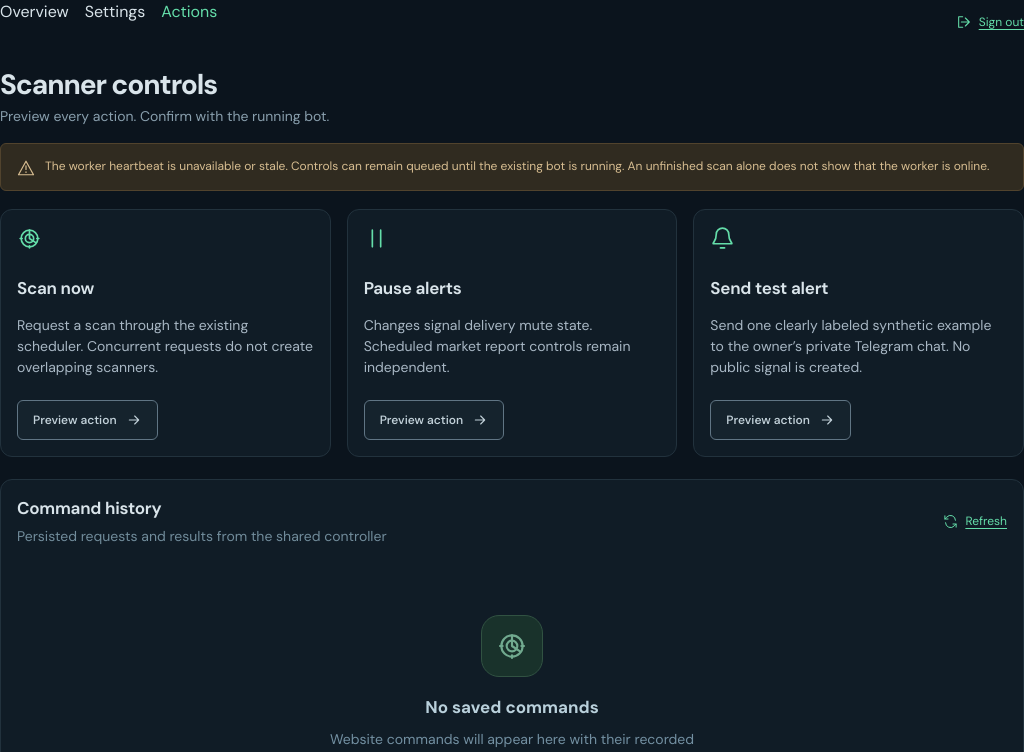
disables an expired preview and tells the owner to request a fresh one
The width and height of the screenshot is (1024, 752).
expect the heading "Scanner controls" is shown: met, box top-left (0, 66), bottom-right (217, 103)
Click the button "Preview action" below "Scan now" at x=87, y=420, box top-left (17, 400), bottom-right (158, 440)
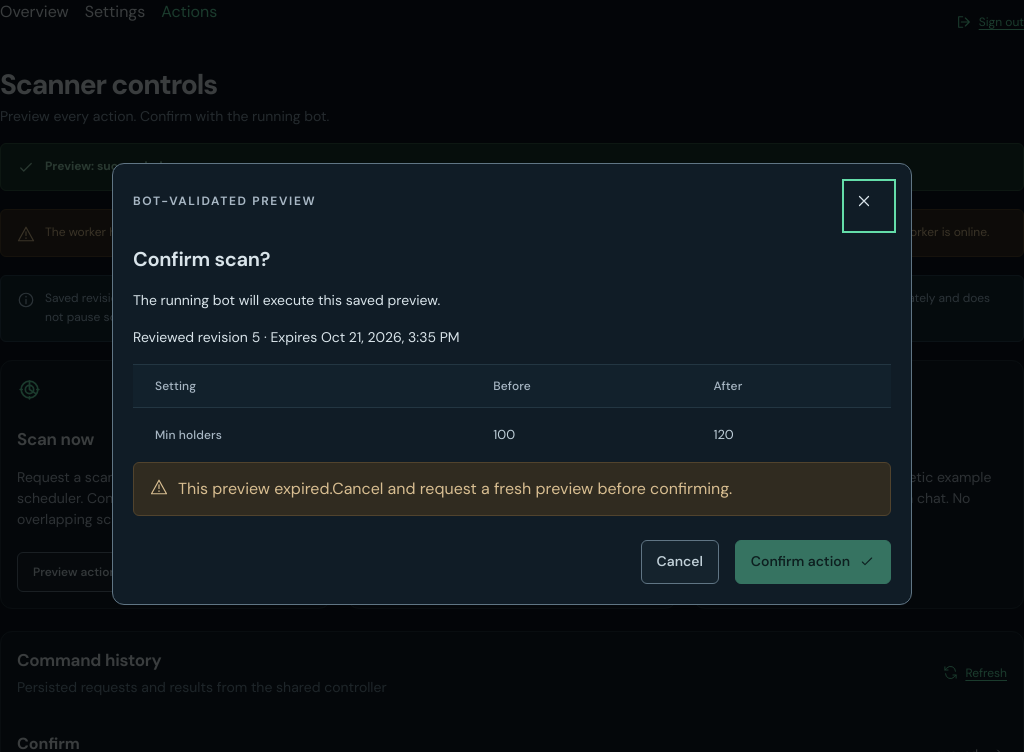
expect the text "This preview expired" is shown: met, box top-left (178, 478), bottom-right (332, 498)
expect the button "Confirm action" is disabled: met, box top-left (735, 540), bottom-right (891, 584)
